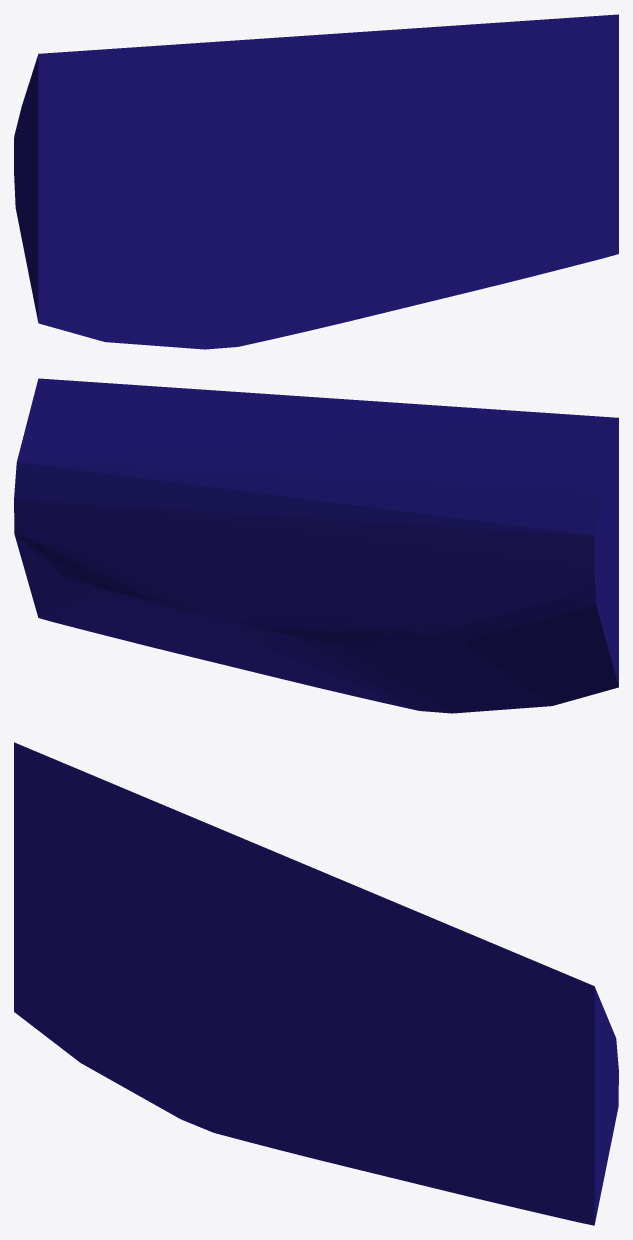
Rendered from pelvis_part_20.obj.
3 renders of one model, top to bottom at view 1: azimuth 30°, elevation 25°; view 2: azimuth 150°, elevation 25°; view 3: azimuth 330°, elevation 25°, orthographic.
Size of the model in its own units: 0.0398 by 0.0225 by 0.0029.
